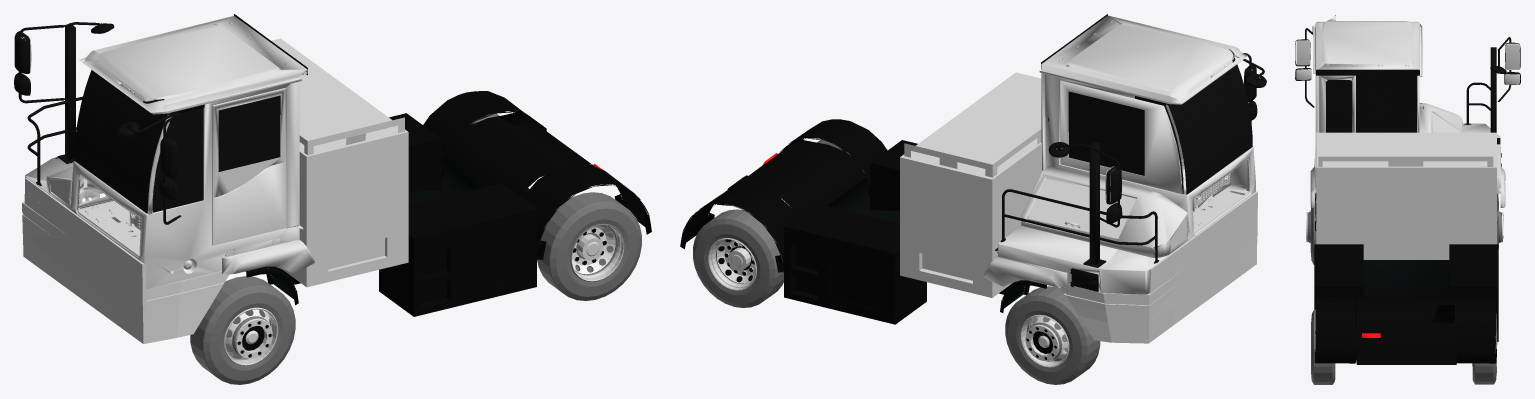
Rendered from eccentric.glb.
3 renders of one model, left to right at view 1: azimuth 30°, elevation 25°; view 2: azimuth 150°, elevation 25°; view 3: azimuth 270°, elevation 25°, orthographic. The views are drawn at different scales.
Parts seen in each view (by area): view 1: truck.001; view 2: truck.001; view 3: truck.001.
Boxes of the visible parts, x1=… form: truck.001: x1=14, y1=14, x2=651, y2=384; truck.001: x1=680, y1=14, x2=1266, y2=384; truck.001: x1=1295, y1=14, x2=1520, y2=384.
Bounding box in the file's own units: 3.84 × 2.11 × 2.01.
6 materials, 6 textured.
